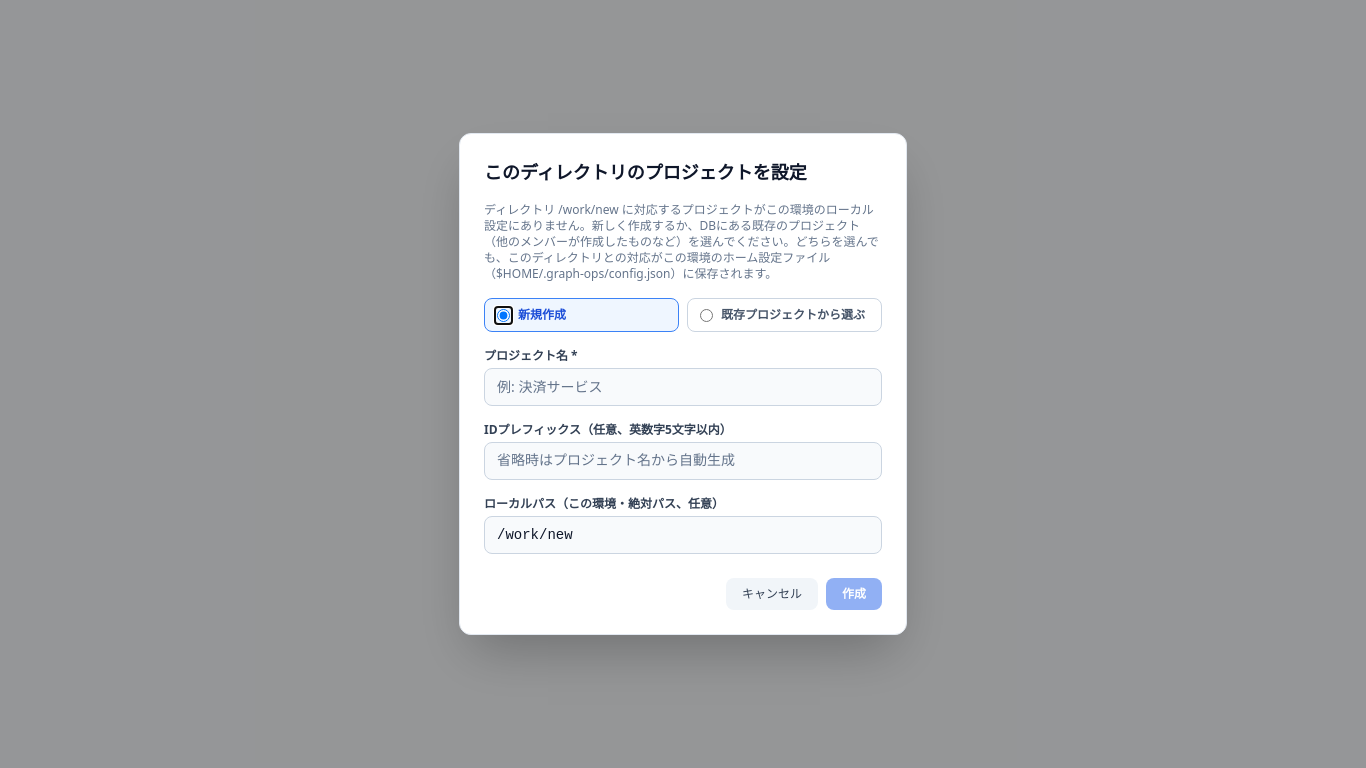
Test: ProjectSetupModal › lists existing projects with their local path or "not set"
Click the radio button labelled "既存プロジェクトから選ぶ" at {"x": 706, "y": 315}, box [700,308,713,322]
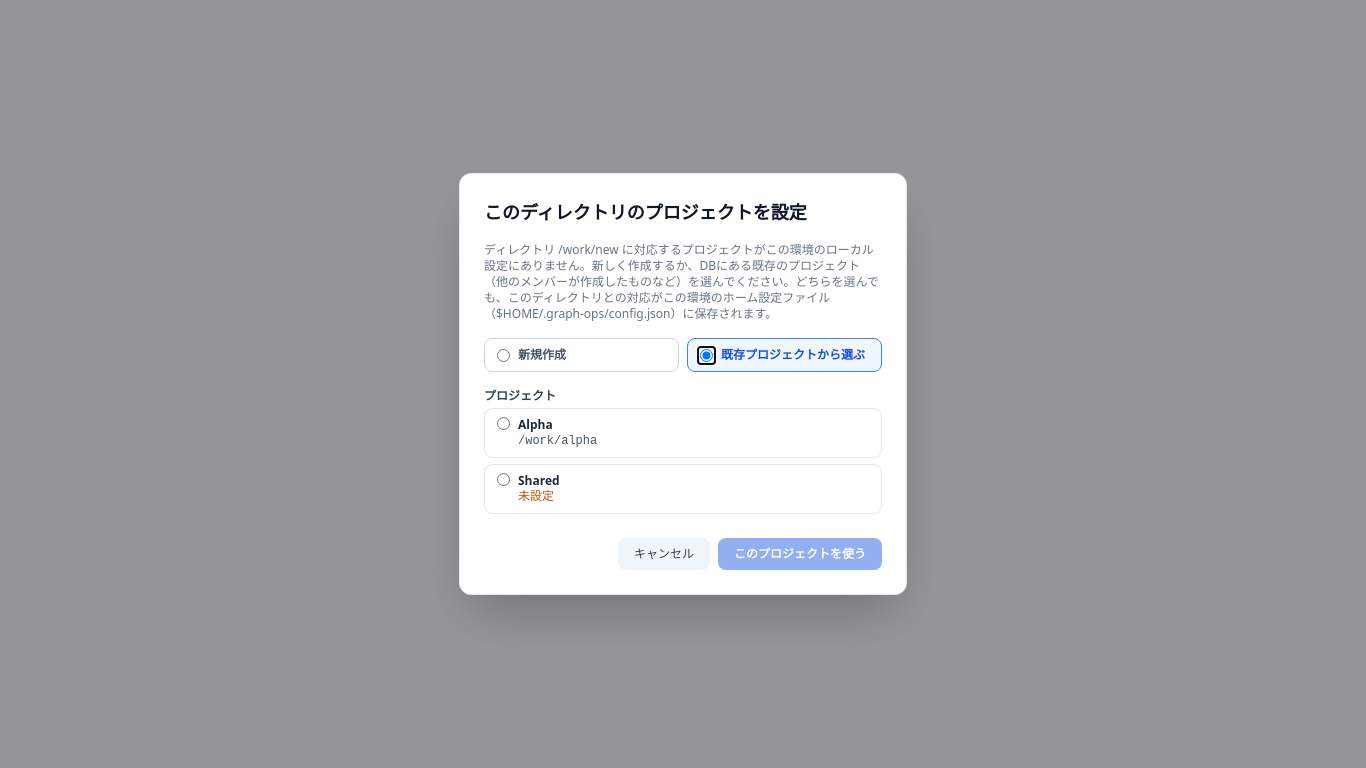
Now the text with test id "project-setup-local-path-p1" reads "/work/alpha", box [518,434,597,448]
Now the text with test id "project-setup-local-path-p2" reads "未設定", box [518,490,554,504]
